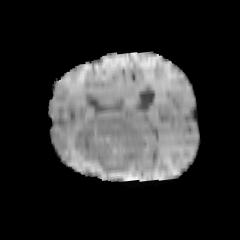glioma: (73, 119, 146, 173)
